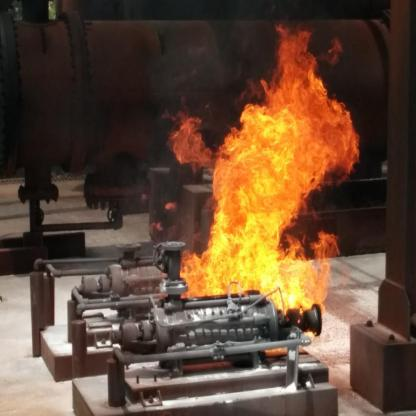fire: (168, 25, 365, 328)
